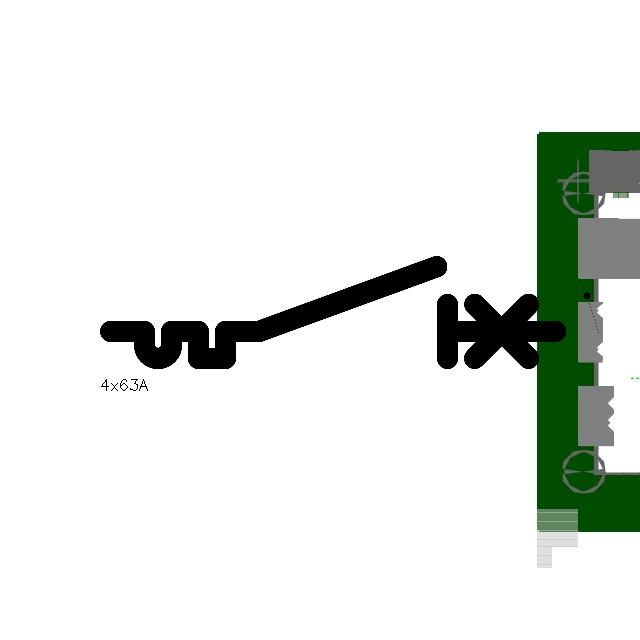interruptor_termomagnetico: (99, 255, 567, 370)
